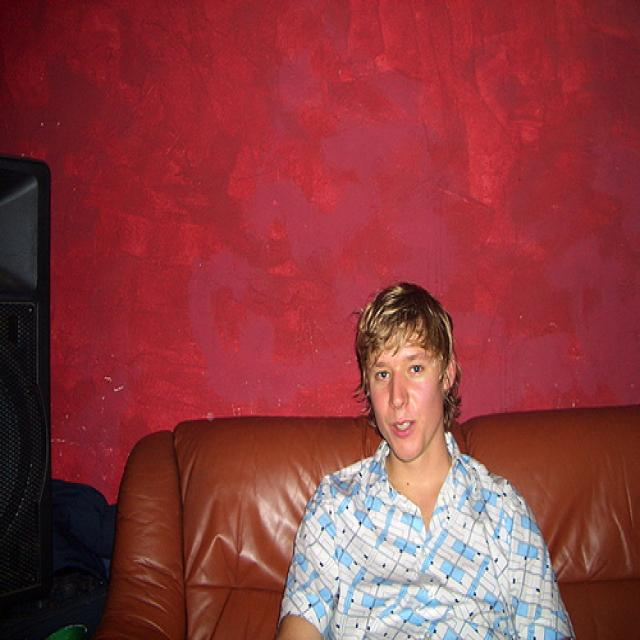person: (273, 276, 580, 639)
sofa: (91, 397, 640, 639)
